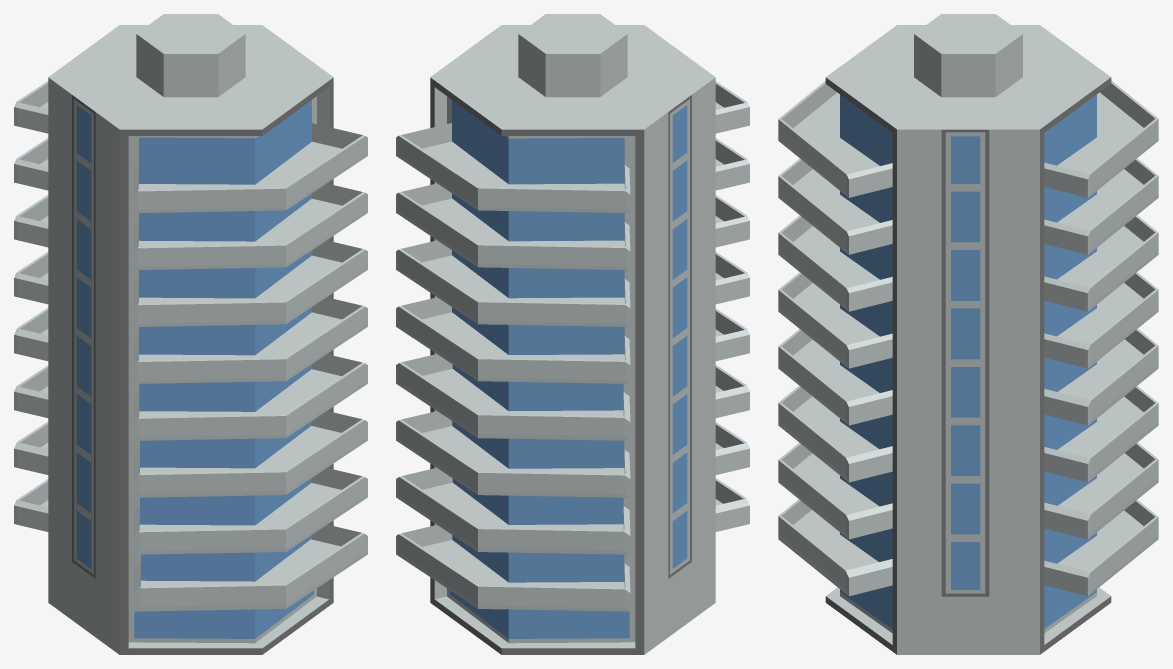
Rendered from apartamentowiec.fbx.
3 views of the same model, side by side, from view 1: azimuth 30°, elevation 25°; view 2: azimuth 150°, elevation 25°; view 3: azimuth 270°, elevation 25° (orthographic).
Visible parts, largest first — view 1: Cylinder; view 2: Cylinder; view 3: Cylinder.
Boxes of the visible parts, bbox=[...] form: Cylinder: bbox=[14, 14, 367, 654]; Cylinder: bbox=[396, 14, 749, 654]; Cylinder: bbox=[778, 14, 1158, 654].
Bounding box in the file's own units: 385 × 895 × 542.
